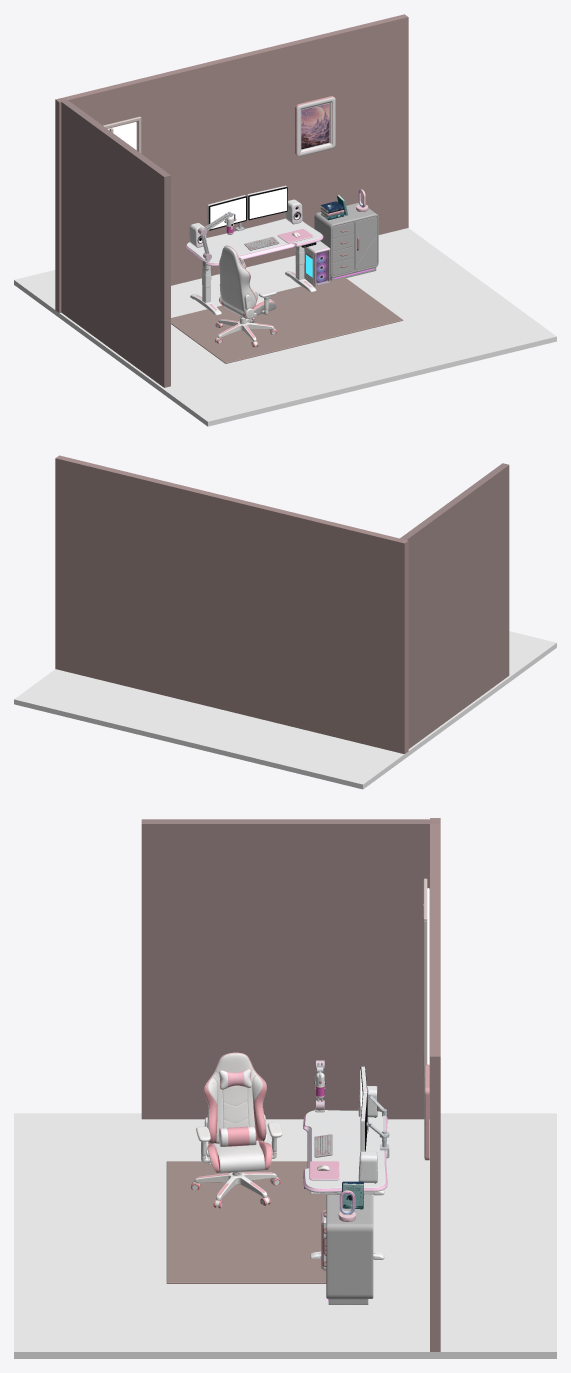
The picture shows the model from 3 angles, top to bottom: view 1: azimuth 30°, elevation 25°; view 2: azimuth 150°, elevation 25°; view 3: azimuth 270°, elevation 25°; orthographic projection. The views are drawn at different scales.
Parts seen in each view (by area): view 1: Architecture_Back_Wall, Architecture_Floor, Architecture_Left_Wall, Decor_Rug, GEO_Desk_Moving_Top, GEO_Chair_Swivel_Upper, GEO_Cabinet_Body, GEO_WallArt_ImageBoard, GEO_Door_Right_Front, GEO_WallArt_Frame, 04-pc-tower_mesh_01, Screen_Right (+3 smaller); view 2: Architecture_Back_Wall, Architecture_Left_Wall, Architecture_Floor; view 3: Architecture_Floor, Architecture_Left_Wall, Decor_Rug, GEO_Chair_Swivel_Upper, Architecture_Back_Wall, GEO_Cabinet_Body, GEO_Desk_Moving_Top, GEO_Chair_Static_Base, Window_Frame_V.001, GEO_Chair_Lumbar_Detachable.
Boxes of the visible parts, x1,y1,x2,y2 form: Architecture_Back_Wall: (55, 14, 408, 312); Architecture_Floor: (14, 228, 556, 426); Architecture_Left_Wall: (58, 98, 170, 387); Decor_Rug: (171, 277, 403, 363); GEO_Desk_Moving_Top: (185, 218, 323, 274); GEO_Chair_Swivel_Upper: (219, 245, 276, 321); GEO_Cabinet_Body: (314, 202, 378, 280); GEO_WallArt_ImageBoard: (301, 103, 329, 149); GEO_Door_Right_Front: (355, 216, 377, 270); GEO_WallArt_Frame: (295, 96, 335, 156); 04-pc-tower_mesh_01: (304, 241, 330, 286); Screen_Right: (249, 188, 286, 218); Architecture_Back_Wall: (55, 455, 408, 753); Architecture_Left_Wall: (396, 463, 509, 748); Architecture_Floor: (14, 631, 556, 789); Architecture_Floor: (14, 1113, 556, 1358); Architecture_Left_Wall: (141, 819, 440, 1119); Decor_Rug: (166, 1161, 334, 1283); GEO_Chair_Swivel_Upper: (196, 1052, 282, 1173); Architecture_Back_Wall: (430, 818, 440, 1351); GEO_Cabinet_Body: (326, 1194, 373, 1304); GEO_Desk_Moving_Top: (303, 1110, 387, 1194); GEO_Chair_Static_Base: (191, 1172, 280, 1208); Window_Frame_V.001: (423, 921, 427, 1075); GEO_Chair_Lumbar_Detachable: (218, 1126, 256, 1146).
Size of the model in its own units: 5.2 by 3.07 by 5.
Materials: 35 (17 with a texture image).
